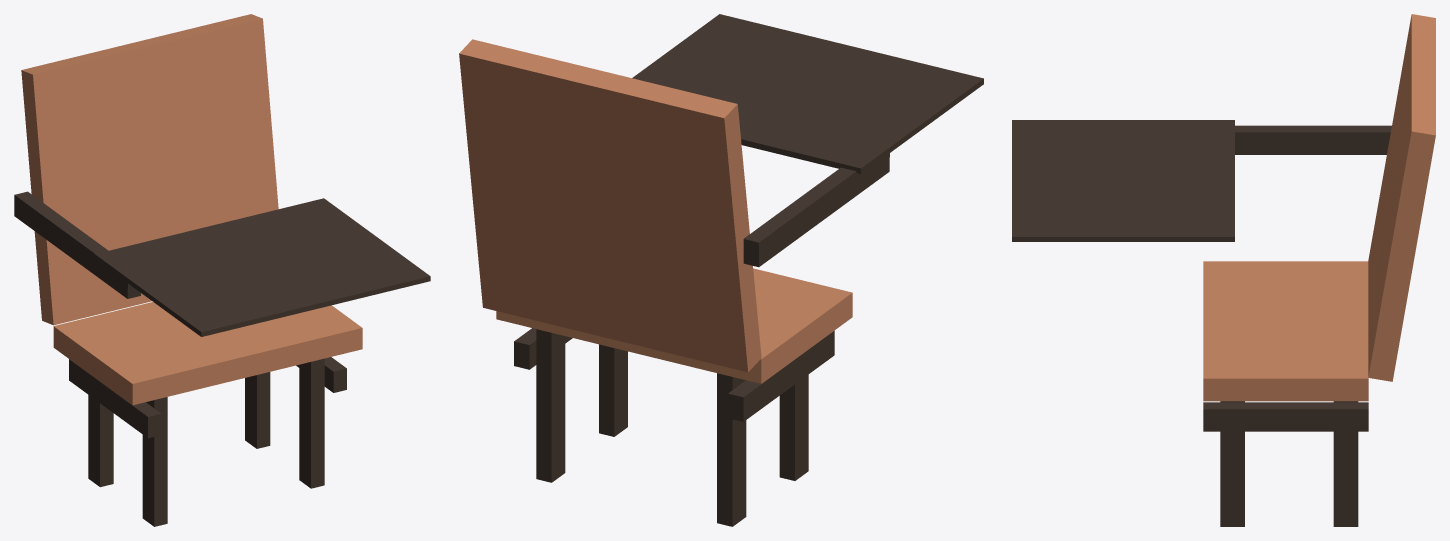
File: Silla_universidad.fbx
3 views of the same model, side by side, from view 1: azimuth 30°, elevation 25°; view 2: azimuth 150°, elevation 25°; view 3: azimuth 270°, elevation 25° (orthographic). The views are drawn at different scales.
Parts seen in each view (by area): view 1: Silla; view 2: Silla; view 3: Silla.
Boxes of the visible parts, box(x1,y1,x2,y2) form: Silla: box(14, 14, 430, 526); Silla: box(459, 14, 983, 526); Silla: box(1012, 14, 1435, 526).
Size of the model in its own units: 52.47 by 77.96 by 72.91.
